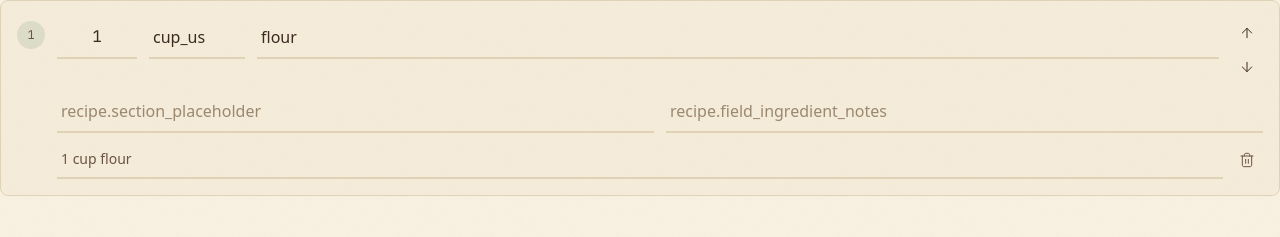
IngredientRowEditor › surfaces an error when the quantity input is invalid
Replace the text in the 1st field with placeholder "recipe.quantity_placeholder" with "abc" at (97, 38), box 57,17 -> 137,59
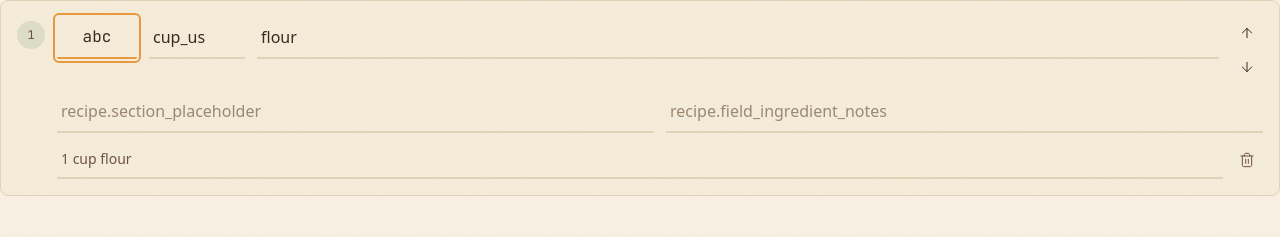
Press Tab
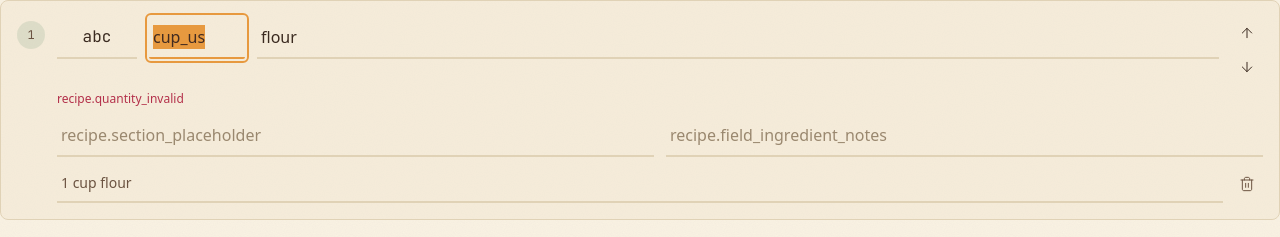
Check: the message reads "recipe.quantity_invalid", box 57,90 -> 184,107
